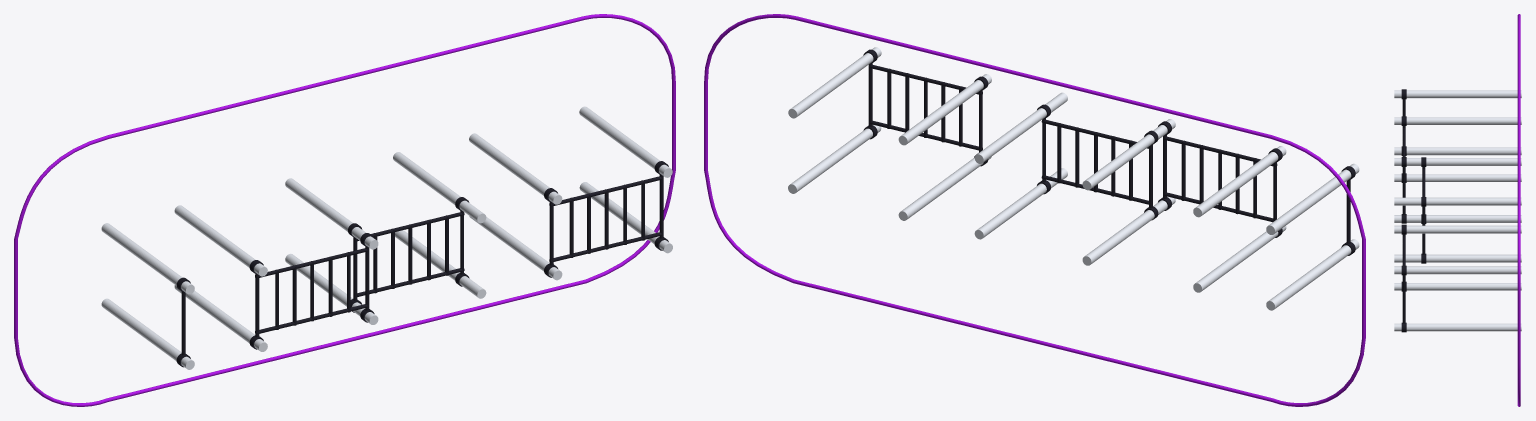
Rendered from kpro-035.glb.
3 renders of one model, left to right at view 1: azimuth 30°, elevation 25°; view 2: azimuth 150°, elevation 25°; view 3: azimuth 270°, elevation 25°, orthographic. The views are drawn at different scales.
Parts seen in each view (by area): view 1: _outline.013, circle.023, circle.033, circle.029, circle.025, circle.031, circle.024, circle.027, circle.032, circle.026, circle.030, circle.034 (+1 smaller); view 2: _outline.013, circle.033, circle.024, circle.025, circle.029, circle.031, circle.034, circle.023, circle.027, circle.028, circle.030, circle.026 (+1 smaller); view 3: _outline.013, circle.023, circle.024, circle.029, circle.031, circle.033, circle.034, circle.030, circle.025, circle.032, circle.026, circle.027 (+4 smaller).
Part boxes in pixels (x1,y1,x2,y2): _outline.013: (14, 14, 675, 406); circle.023: (101, 223, 194, 294); circle.033: (579, 106, 672, 177); circle.029: (393, 152, 486, 223); circle.025: (174, 205, 267, 276); circle.031: (469, 133, 562, 204); circle.024: (101, 298, 194, 369); circle.027: (285, 178, 378, 249); circle.032: (469, 216, 562, 280); circle.026: (174, 285, 267, 351); circle.030: (395, 230, 486, 298); circle.034: (579, 182, 672, 253); _outline.013: (704, 14, 1365, 406); circle.033: (788, 47, 881, 118); circle.024: (1266, 239, 1359, 310); circle.025: (1193, 146, 1286, 217); circle.029: (974, 92, 1067, 163); circle.031: (898, 74, 991, 145); circle.034: (788, 125, 881, 193); circle.023: (1266, 163, 1359, 234); circle.027: (1082, 119, 1175, 190); circle.028: (1082, 196, 1175, 265); circle.030: (974, 168, 1067, 239); circle.026: (1193, 226, 1286, 292); _outline.013: (1517, 14, 1520, 406); circle.023: (1394, 90, 1521, 98); circle.024: (1394, 147, 1521, 155); circle.029: (1394, 197, 1521, 205); circle.031: (1394, 225, 1521, 233); circle.033: (1394, 266, 1521, 274); circle.034: (1394, 323, 1521, 331); circle.030: (1394, 254, 1521, 262); circle.025: (1394, 117, 1521, 124); circle.032: (1394, 283, 1521, 290); circle.026: (1394, 174, 1521, 181); circle.027: (1394, 158, 1521, 165).
Bounding box in the file's own units: 11.77 × 4.59 × 2.6.
